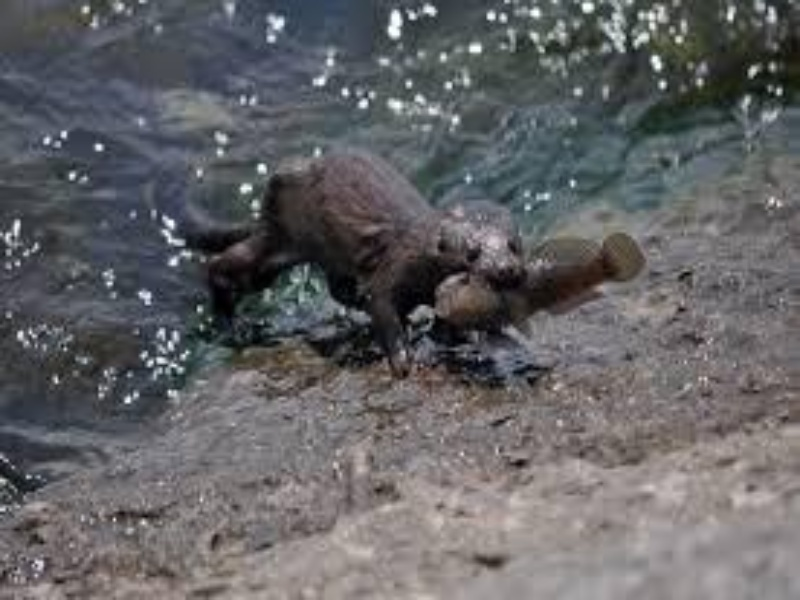minkish: (158, 135, 531, 382)
